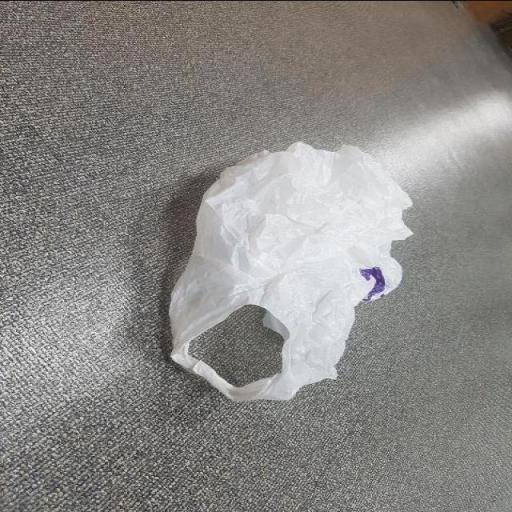plastic-bag: (161, 140, 417, 404)
